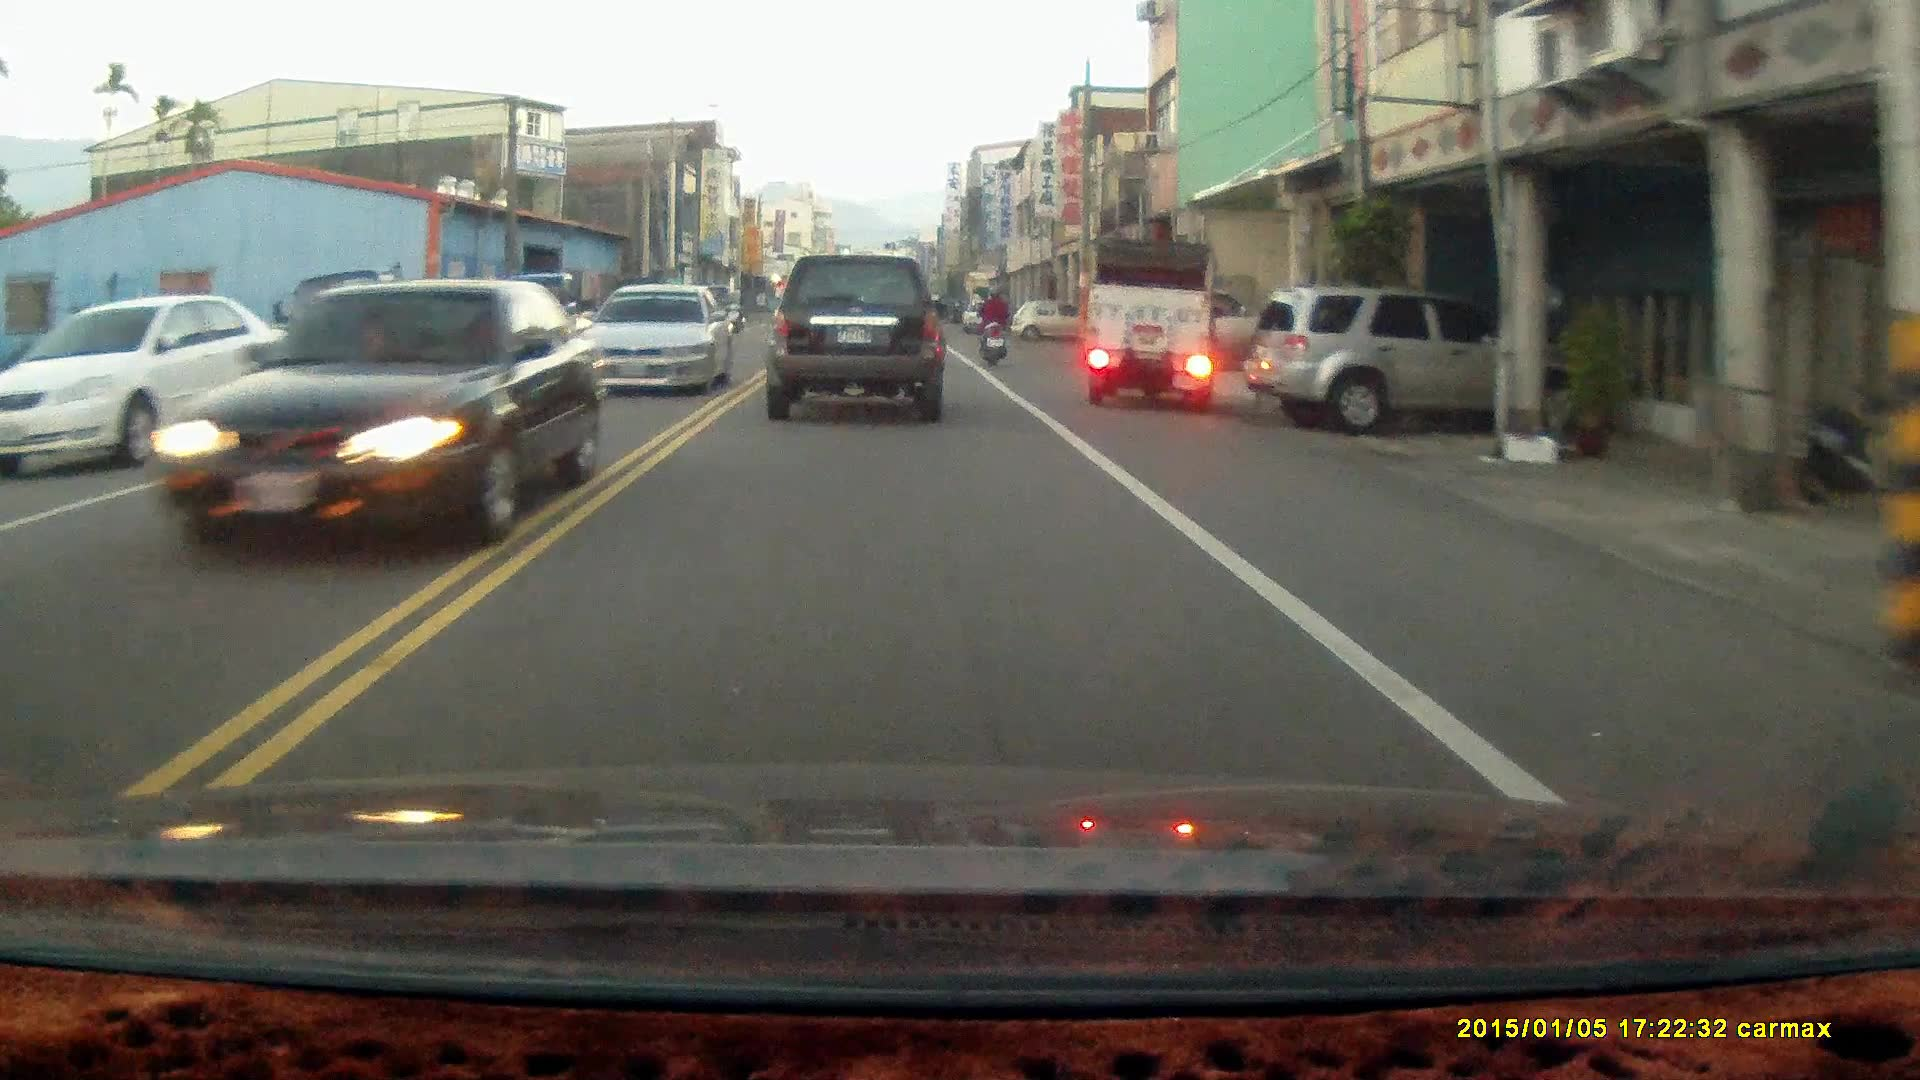rider: (974, 280, 1011, 366), (722, 287, 748, 335)
vehicle: (153, 277, 584, 558), (1, 293, 293, 481), (1248, 279, 1516, 432), (766, 256, 948, 425), (1084, 234, 1218, 403), (582, 281, 734, 395), (1012, 293, 1079, 341)
